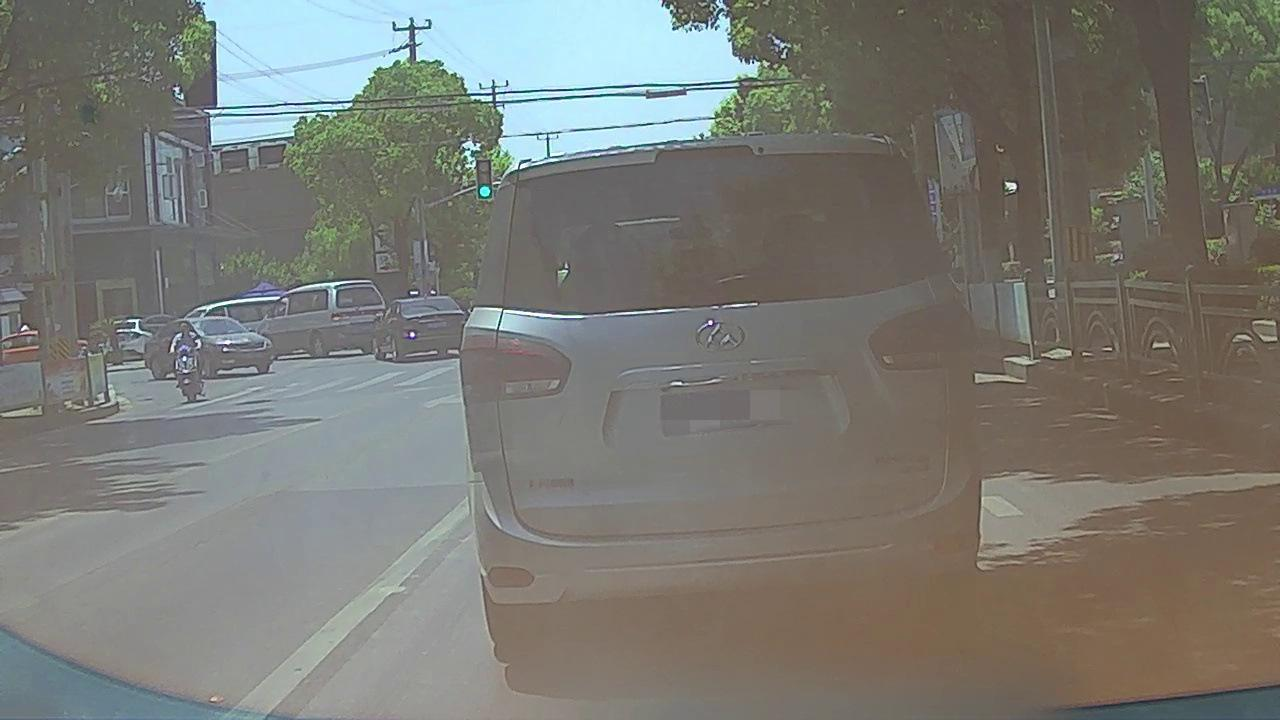traffic_light: (478, 159, 491, 200)
